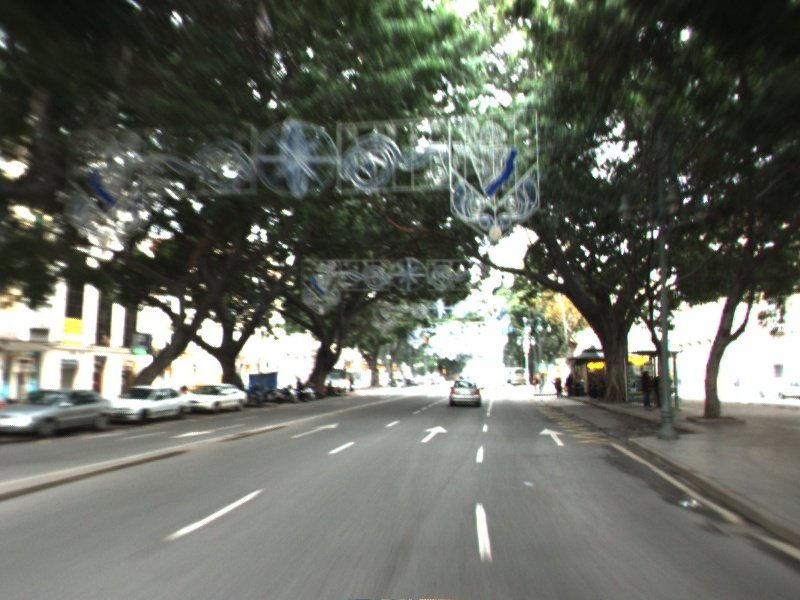STRAIGHT: (287, 420, 342, 441), (536, 426, 569, 448), (418, 424, 451, 445)
